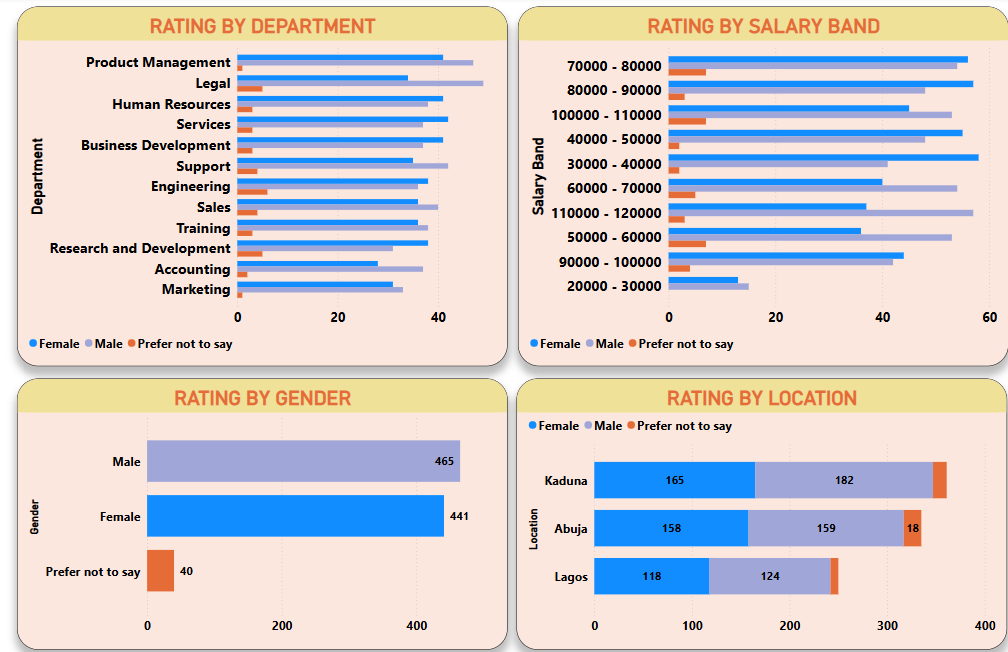

This screenshot's page, from the dashboard's own definition file:
{"tool":"powerbi","page":{"name":"Page 3","canvas":[1350,880],"ordinal":2},"visuals":[{"type":"clusteredBarChart","title":"RATING BY DEPARTMENT","fields":{"Category":["Palmoria Group Employee Data.Department"],"Y":["CountNonNull(Palmoria Group Employee Data.Rating)"],"Series":["Palmoria Group Employee Data.Gender"]},"box":[27.7,13.9,647.2,475],"z":0},{"type":"clusteredBarChart","title":"RATING BY SALARY BAND","fields":{"Category":["Palmoria Group Employee Data.Salary Band"],"Y":["CountNonNull(Palmoria Group Employee Data.Rating)"],"Series":["Palmoria Group Employee Data.Gender"]},"box":[688.7,13.9,647.2,475],"z":2000},{"type":"barChart","title":"RATING BY GENDER","fields":{"Y":["CountNonNull(Palmoria Group Employee Data.Rating)"],"Category":["Palmoria Group Employee Data.Gender"]},"box":[27.7,504.7,647.2,358.2],"z":3000},{"type":"barChart","title":"RATING BY LOCATION","fields":{"Y":["CountNonNull(Palmoria Group Employee Data.Rating)"],"Category":["Palmoria Group Employee Data.Location"],"Series":["Palmoria Group Employee Data.Gender"]},"box":[686.7,504.7,647.2,358.2],"z":4000}]}

Visuals, with their boxes in screenshot pixels (x1, y1, x2, y2), scaled from the page's 1350x880 canvas onto the 1008x652 screenshot:
"RATING BY DEPARTMENT" clusteredBarChart: bbox=[21, 10, 504, 362]
"RATING BY SALARY BAND" clusteredBarChart: bbox=[514, 10, 997, 362]
"RATING BY GENDER" barChart: bbox=[21, 374, 504, 639]
"RATING BY LOCATION" barChart: bbox=[513, 374, 996, 639]
